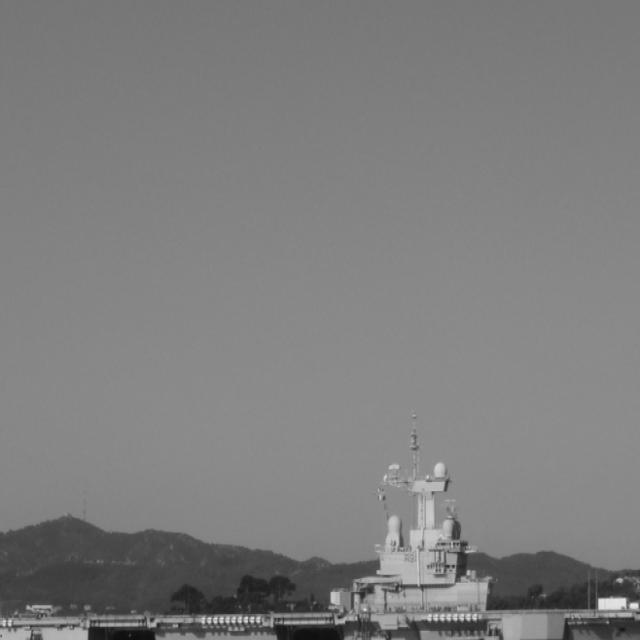Portanaves: (1, 419, 640, 640)
